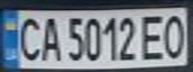0: (81, 14, 103, 62)
1: (100, 14, 121, 62)
2: (115, 12, 139, 62)
5: (63, 14, 84, 62)
A: (36, 14, 63, 62)
C: (12, 14, 45, 62)
E: (136, 11, 169, 61)
O: (160, 11, 190, 60)
